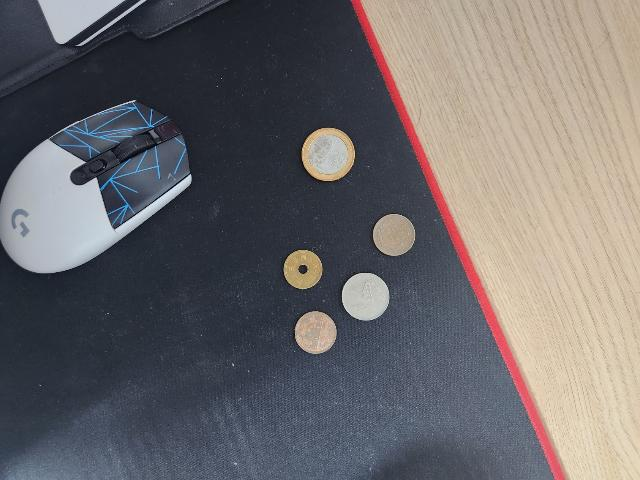coin: (302, 127, 354, 181), (342, 272, 390, 322), (294, 310, 338, 354), (374, 214, 414, 256), (285, 248, 323, 290)
